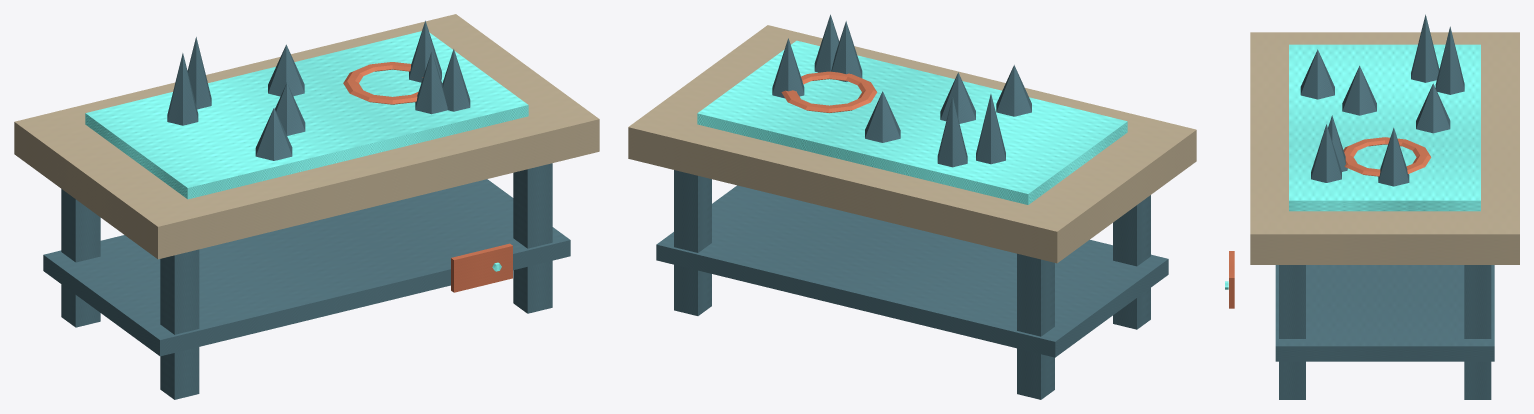
The model's file is atlas100-s043-a01.lod1.glb.
The picture shows the model from 3 angles, left to right: view 1: azimuth 30°, elevation 25°; view 2: azimuth 150°, elevation 25°; view 3: azimuth 270°, elevation 25°; orthographic projection. The views are drawn at different scales.
Parts seen in each view (by area): view 1: atlas100-s043-a01:part-004, atlas100-s043-a01:part-005, atlas100-s043-a01:part-006, atlas100-s043-a01:part-001, atlas100-s043-a01:part-003, atlas100-s043-a01:part-000, atlas100-s043-a01:part-016, atlas100-s043-a01:part-012, atlas100-s043-a01:part-015, atlas100-s043-a01:part-007, atlas100-s043-a01:part-014, atlas100-s043-a01:part-013 (+4 smaller); view 2: atlas100-s043-a01:part-004, atlas100-s043-a01:part-005, atlas100-s043-a01:part-006, atlas100-s043-a01:part-002, atlas100-s043-a01:part-000, atlas100-s043-a01:part-001, atlas100-s043-a01:part-015, atlas100-s043-a01:part-009, atlas100-s043-a01:part-012, atlas100-s043-a01:part-007, atlas100-s043-a01:part-013, atlas100-s043-a01:part-008 (+3 smaller); view 3: atlas100-s043-a01:part-004, atlas100-s043-a01:part-006, atlas100-s043-a01:part-005, atlas100-s043-a01:part-002, atlas100-s043-a01:part-003, atlas100-s043-a01:part-015, atlas100-s043-a01:part-009, atlas100-s043-a01:part-012, atlas100-s043-a01:part-008, atlas100-s043-a01:part-011, atlas100-s043-a01:part-007, atlas100-s043-a01:part-010 (+3 smaller).
Part boxes in pixels (x1,y1,x2,y2): atlas100-s043-a01:part-004: (14, 14, 599, 259); atlas100-s043-a01:part-005: (43, 179, 570, 356); atlas100-s043-a01:part-006: (85, 31, 528, 199); atlas100-s043-a01:part-001: (160, 249, 199, 399); atlas100-s043-a01:part-003: (513, 163, 552, 313); atlas100-s043-a01:part-000: (61, 189, 100, 327); atlas100-s043-a01:part-016: (451, 243, 512, 292); atlas100-s043-a01:part-012: (167, 53, 198, 125); atlas100-s043-a01:part-015: (343, 62, 423, 104); atlas100-s043-a01:part-007: (255, 108, 292, 160); atlas100-s043-a01:part-014: (415, 51, 447, 114); atlas100-s043-a01:part-013: (268, 44, 304, 96); atlas100-s043-a01:part-004: (628, 25, 1196, 263); atlas100-s043-a01:part-005: (656, 185, 1168, 357); atlas100-s043-a01:part-006: (697, 40, 1127, 204); atlas100-s043-a01:part-002: (674, 170, 711, 315); atlas100-s043-a01:part-000: (1017, 253, 1054, 399); atlas100-s043-a01:part-001: (1113, 195, 1150, 329); atlas100-s043-a01:part-015: (781, 71, 877, 112); atlas100-s043-a01:part-009: (937, 96, 967, 167); atlas100-s043-a01:part-012: (976, 94, 1005, 164); atlas100-s043-a01:part-007: (996, 65, 1031, 116); atlas100-s043-a01:part-013: (865, 91, 900, 142); atlas100-s043-a01:part-008: (772, 38, 804, 98); atlas100-s043-a01:part-004: (1250, 32, 1519, 264); atlas100-s043-a01:part-006: (1289, 44, 1480, 211); atlas100-s043-a01:part-005: (1275, 265, 1494, 361); atlas100-s043-a01:part-002: (1464, 265, 1491, 399); atlas100-s043-a01:part-003: (1279, 265, 1305, 399); atlas100-s043-a01:part-015: (1343, 137, 1431, 176); atlas100-s043-a01:part-009: (1435, 26, 1464, 94); atlas100-s043-a01:part-012: (1411, 14, 1439, 82); atlas100-s043-a01:part-008: (1378, 127, 1409, 186); atlas100-s043-a01:part-011: (1311, 124, 1341, 182); atlas100-s043-a01:part-007: (1300, 49, 1334, 99); atlas100-s043-a01:part-010: (1342, 65, 1376, 115).
Size of the model in its own units: 2.84 by 1.65 by 1.75.
Materials: 4 (4 with a texture image).
